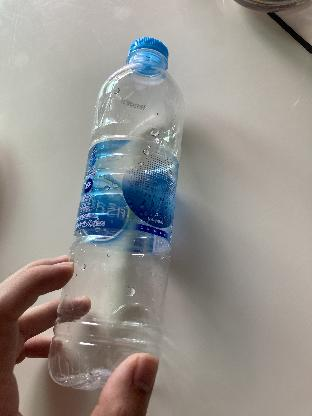Plastic Bottle: (46, 35, 188, 404)
